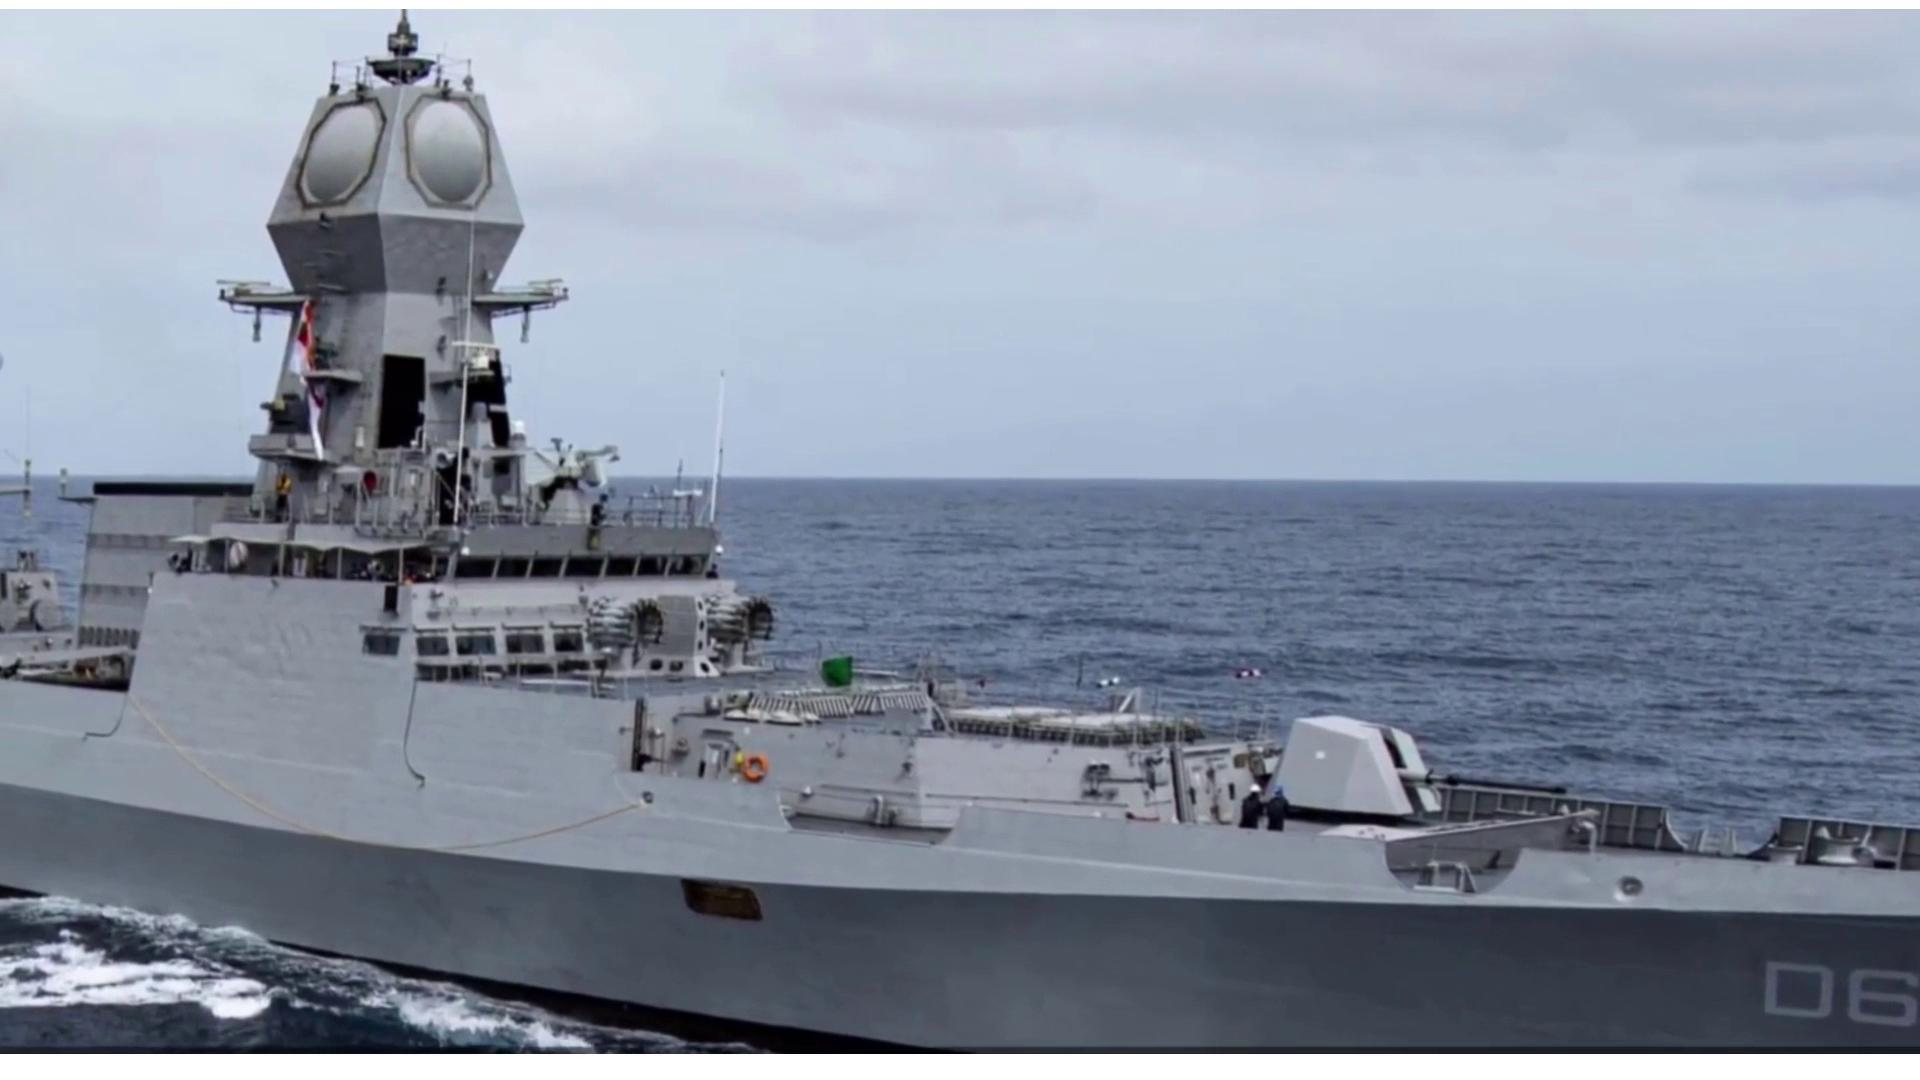OCR: (1751, 952, 1920, 1044)
